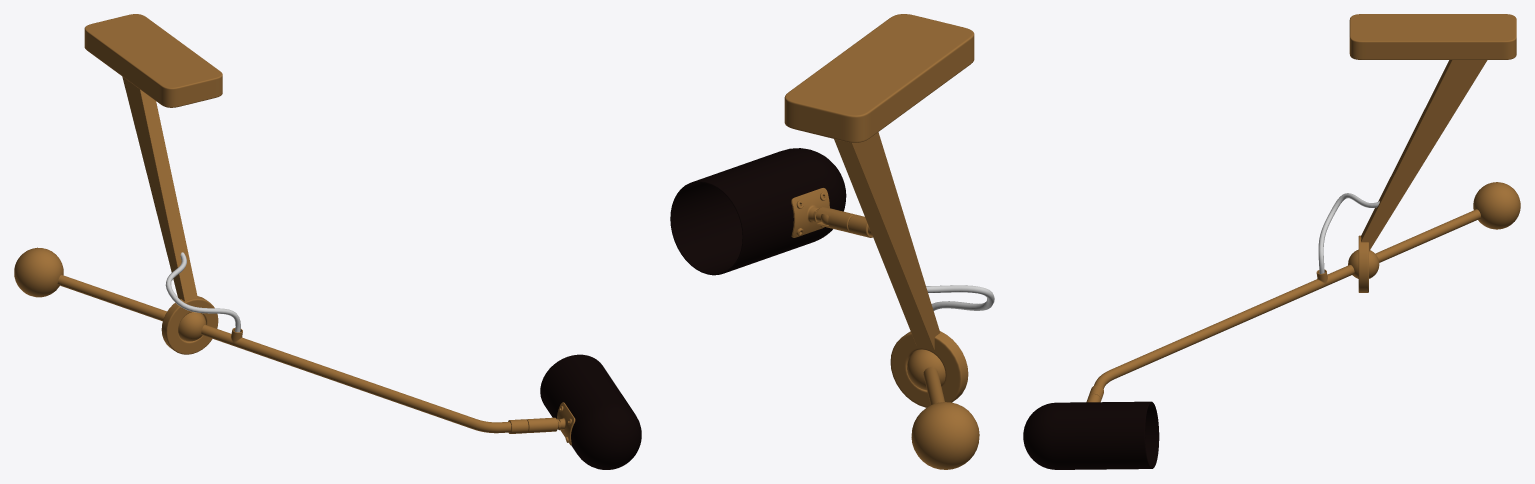
File: Bertfrank_Stasis_Wall_Light_mat(1).obj
3 renders of one model, left to right at view 1: azimuth 30°, elevation 25°; view 2: azimuth 150°, elevation 25°; view 3: azimuth 270°, elevation 25°, orthographic. The views are drawn at different scales.
Parts seen in each view (by area): view 1: Bertfrank_Stasis_Wall_Light_mat1; view 2: Bertfrank_Stasis_Wall_Light_mat1; view 3: Bertfrank_Stasis_Wall_Light_mat1.
Part boxes in pixels (<box>): Bertfrank_Stasis_Wall_Light_mat1: <box>14,14,641,469</box>; Bertfrank_Stasis_Wall_Light_mat1: <box>670,14,994,469</box>; Bertfrank_Stasis_Wall_Light_mat1: <box>1023,14,1520,469</box>.
Size of the model in its own units: 42.91 by 33.79 by 47.67.
